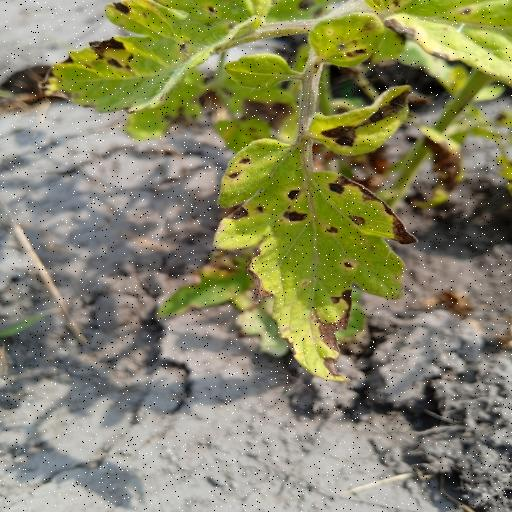Tomato_Brown_Spots: (214, 85, 420, 382), (0, 0, 278, 112)
